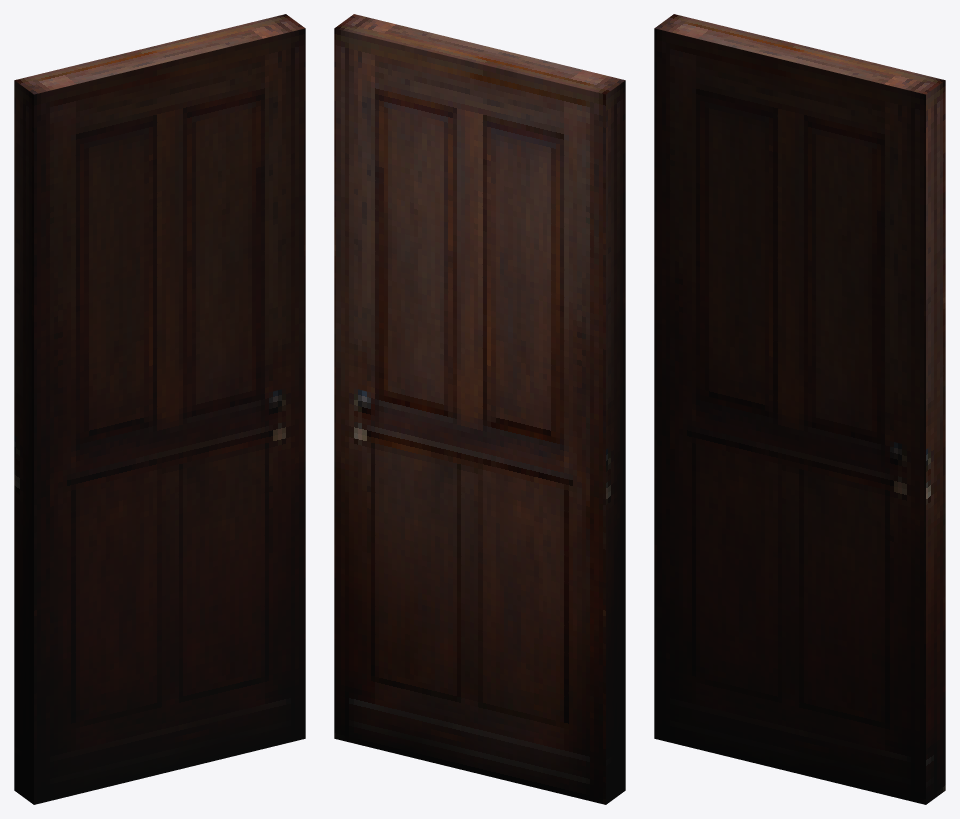
The model's file is basic_door.glb.
3 renders of one model, left to right at view 1: azimuth 30°, elevation 25°; view 2: azimuth 150°, elevation 25°; view 3: azimuth 330°, elevation 25°, orthographic.
Visible parts, largest first — view 1: Door.002; view 2: Door.002; view 3: Door.002.
Part boxes in pixels (left/top/right/bottom): Door.002: left=14, top=14, right=305, bottom=804; Door.002: left=334, top=14, right=625, bottom=804; Door.002: left=654, top=14, right=945, bottom=804.
Bounding box in the file's own units: 0.8 × 2 × 0.1.
1 material, 1 textured.
